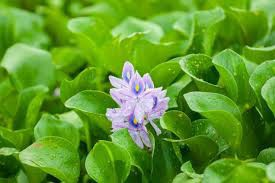water_hyacinth: (0, 50, 275, 183)
